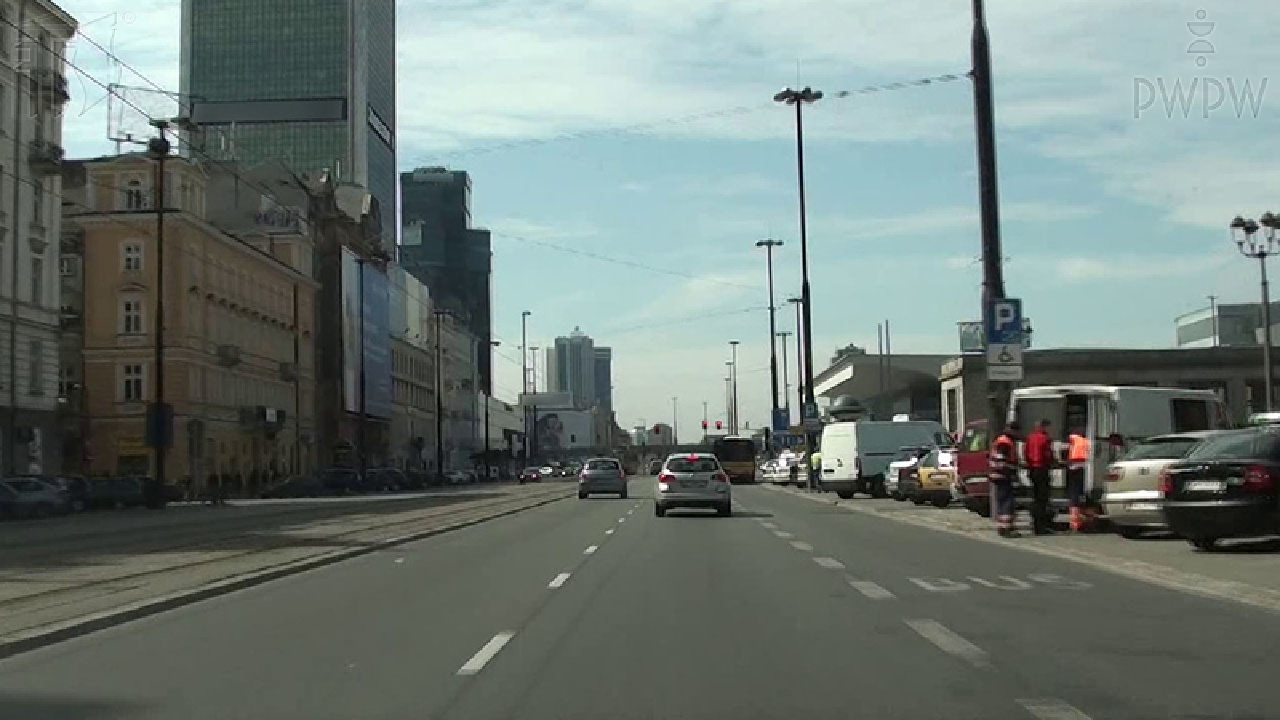D18: (988, 298, 1020, 344)
